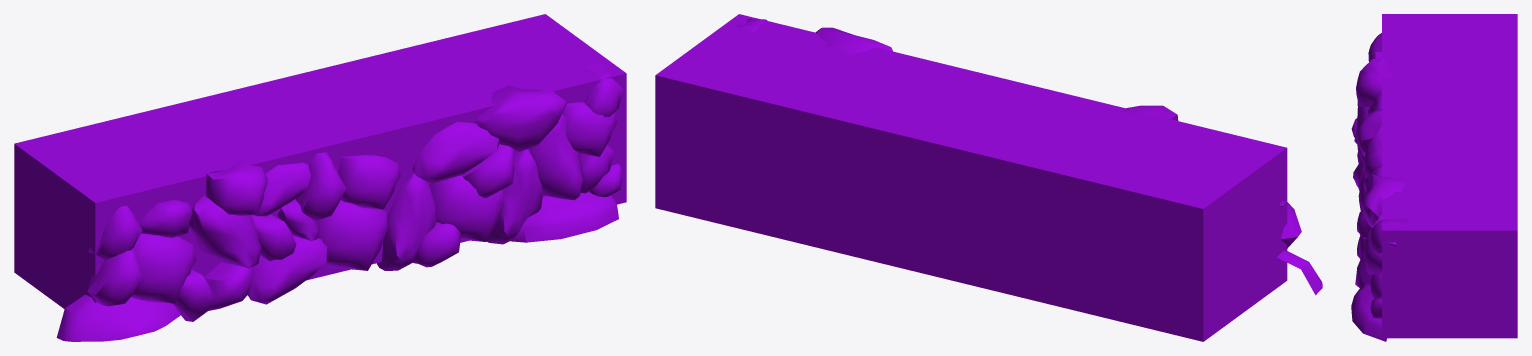
Rendered from heia_uv_01.fbx.
3 renders of one model, left to right at view 1: azimuth 30°, elevation 25°; view 2: azimuth 150°, elevation 25°; view 3: azimuth 270°, elevation 25°, orthographic. The views are drawn at different scales.
Visible parts, largest first — view 1: h_rock_30; view 2: h_rock_30; view 3: h_rock_30.
Boxes of the visible parts, left/top/right/bottom form: h_rock_30: left=14, top=14, right=626, bottom=341; h_rock_30: left=655, top=14, right=1322, bottom=341; h_rock_30: left=1351, top=14, right=1517, bottom=341.
Bounding box in the file's own units: 9.57 × 2.4 × 2.92.
